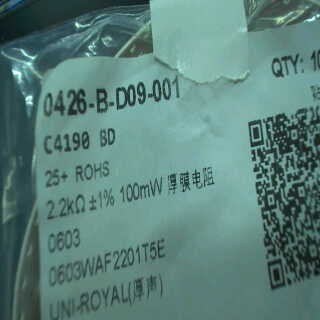2.2kR: (38, 191, 87, 221)
